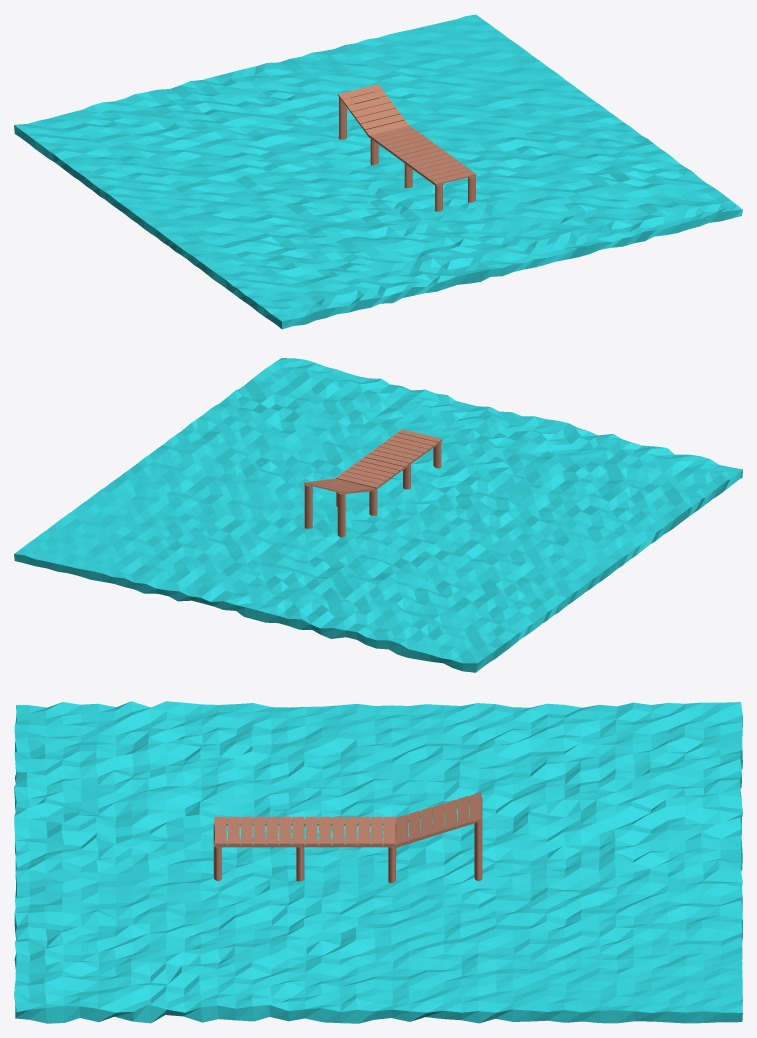
The model's file is domiac.glb.
3 views of the same model, one above another, from view 1: azimuth 30°, elevation 25°; view 2: azimuth 150°, elevation 25°; view 3: azimuth 270°, elevation 25° (orthographic). The views are drawn at different scales.
Parts seen in each view (by area): view 1: Cube, Cylinder; view 2: Cube, Cylinder; view 3: Cube, Cylinder.
Boxes of the visible parts, bbox=[...] form: Cube: bbox=[14, 14, 742, 329]; Cylinder: bbox=[338, 84, 476, 211]; Cube: bbox=[14, 358, 742, 672]; Cylinder: bbox=[304, 429, 442, 537]; Cube: bbox=[14, 701, 742, 1023]; Cylinder: bbox=[213, 792, 482, 883].
Size of what is drawn, in the model's own units: 124 by 17.89 by 125.
